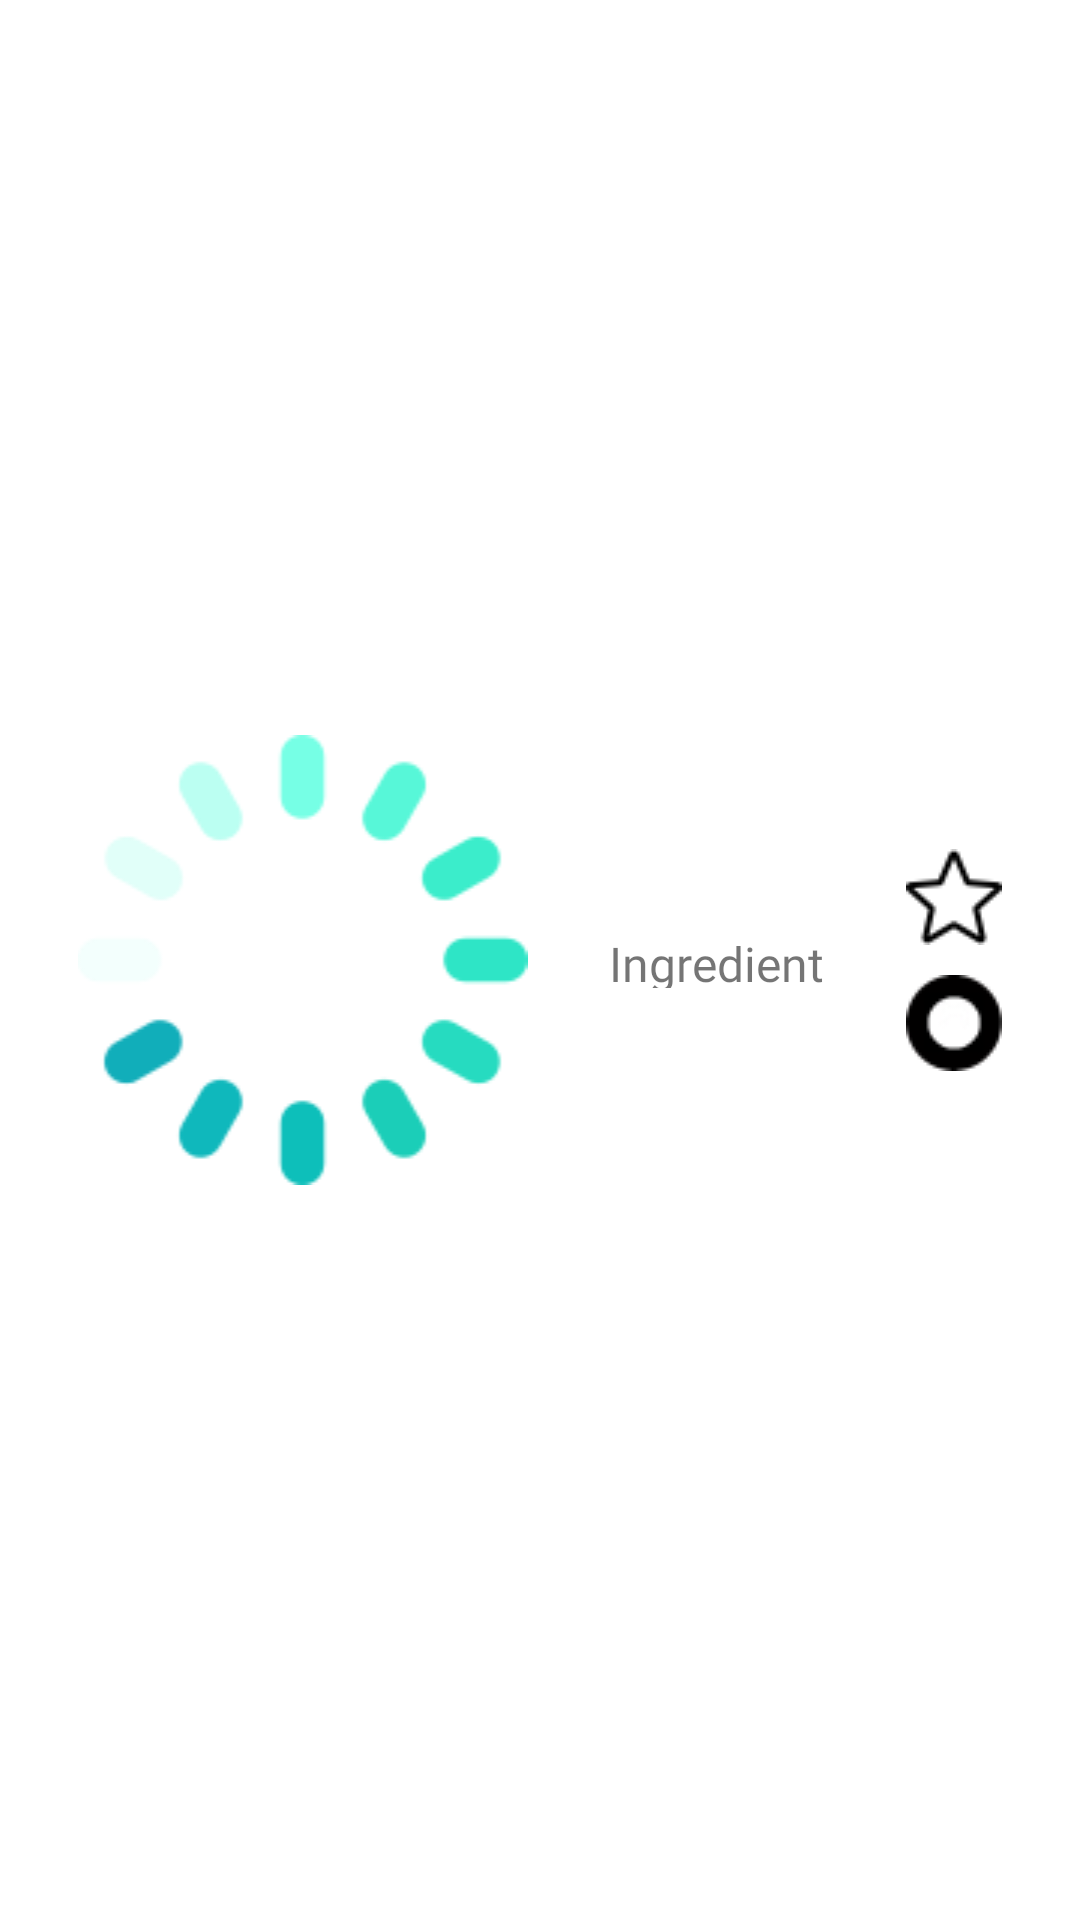

Point at icon controls on the screen. Image size 1080 × 1920, points as (x,y).
star empty: (954,897)
